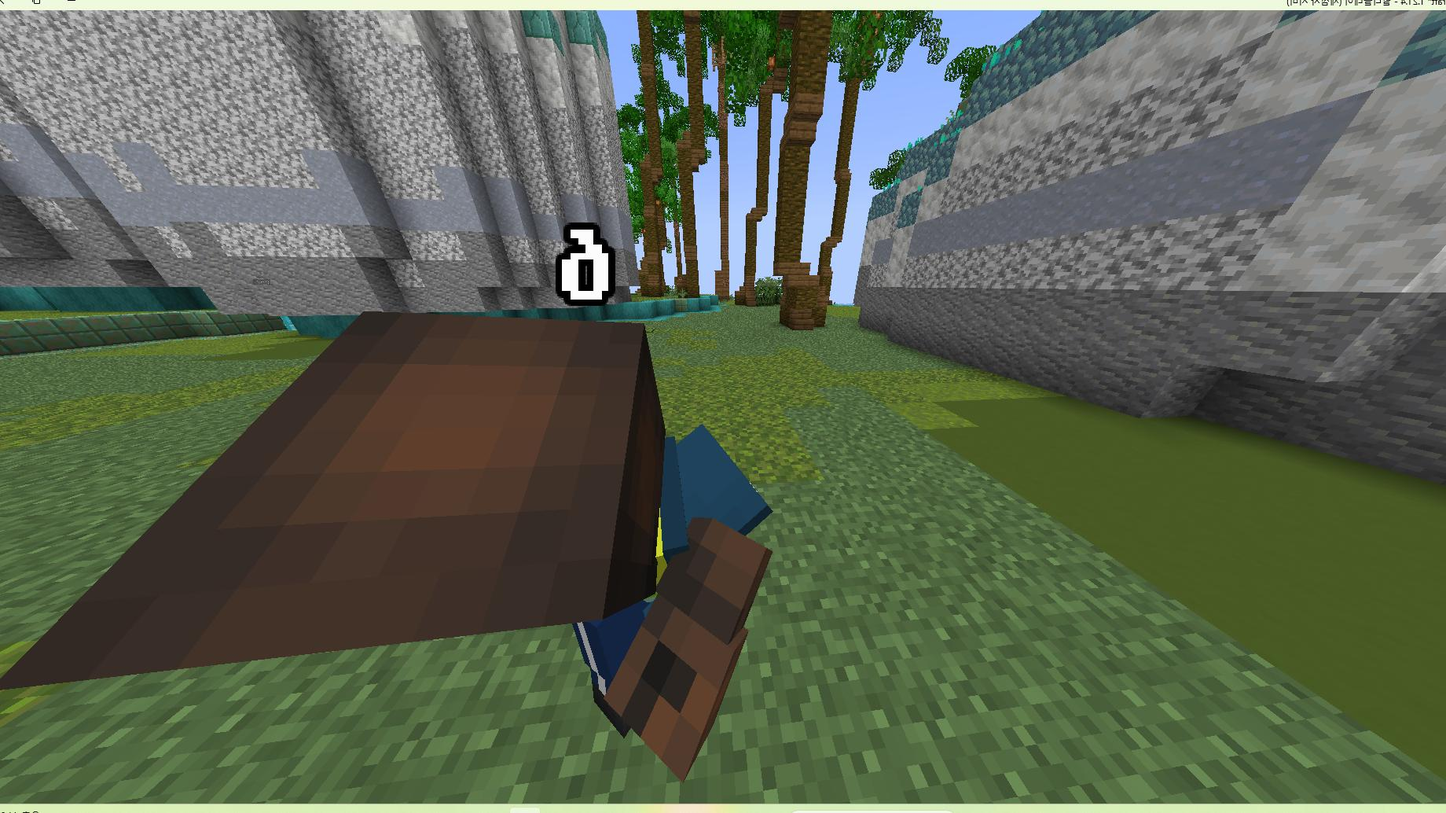Guardian: (0, 315, 769, 757)
